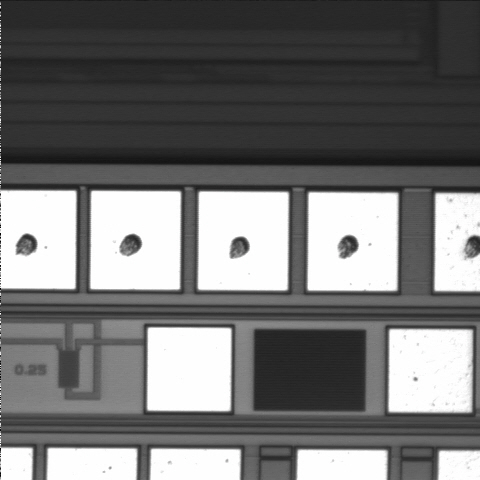pad: (90, 191, 181, 290), (308, 192, 398, 291), (198, 192, 288, 290), (147, 328, 231, 411), (389, 329, 472, 412)
